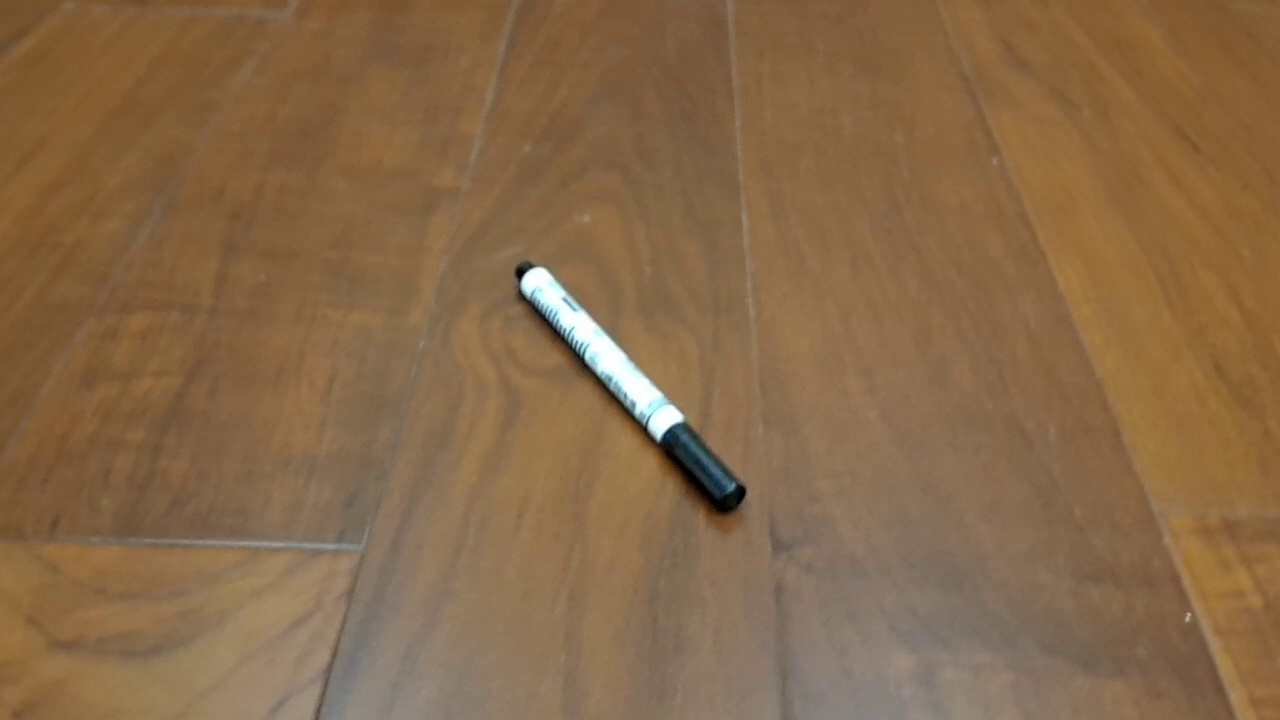pen: (514, 261, 747, 514)
